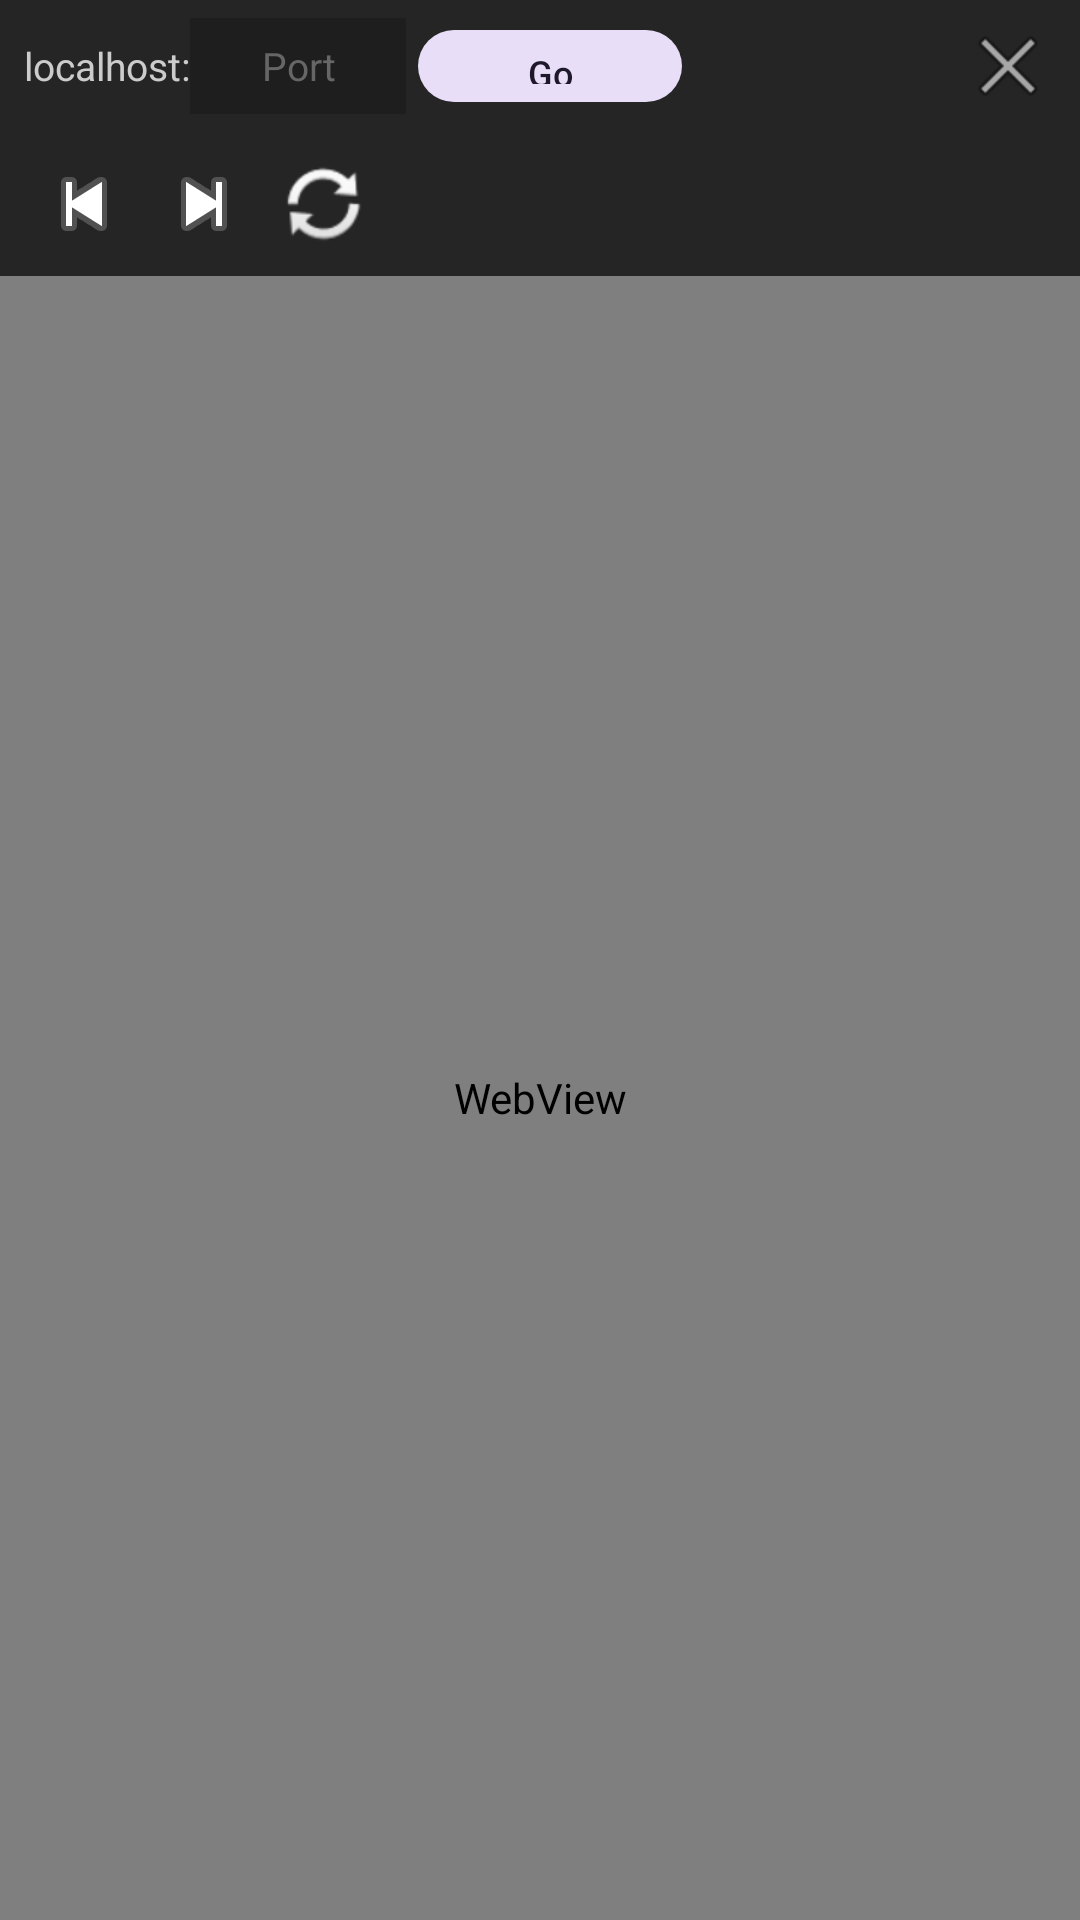

Icon click points for this 1080w x 1920h phone screenshot, format (x,y):
Back: (84,204)
Close: (1008,66)
Forward: (204,204)
Refresh: (323,204)
